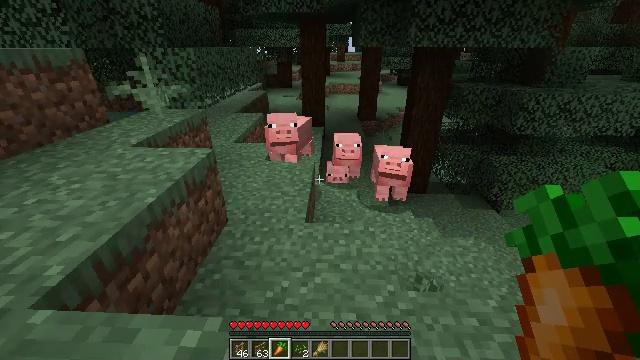pig: (370, 146, 413, 202), (265, 113, 312, 162), (334, 132, 363, 169), (325, 161, 349, 186)
